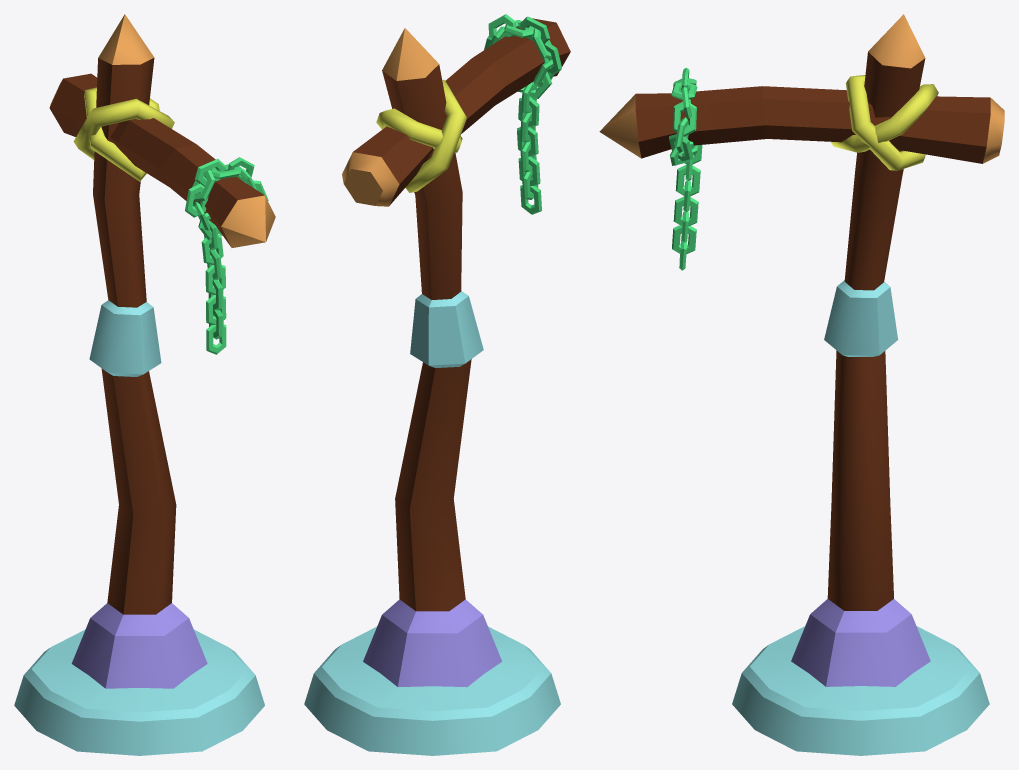
Rendered from Pillar.fbx.
3 renders of one model, left to right at view 1: azimuth 30°, elevation 25°; view 2: azimuth 150°, elevation 25°; view 3: azimuth 270°, elevation 25°, orthographic. The views are drawn at different scales.
Parts seen in each view (by area): view 1: back_8; view 2: back_8; view 3: back_8.
Part boxes in pixels (box(x1,y1,x2,y2)): back_8: box(14, 14, 275, 755); back_8: box(304, 14, 570, 755); back_8: box(599, 14, 1004, 755).
Size of the model in its own units: 171 by 535 by 283.
